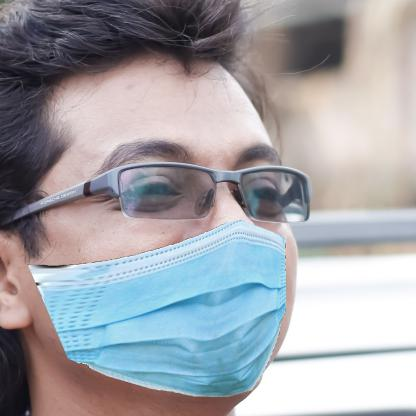Correctly_Masked: (26, 59, 300, 398)
